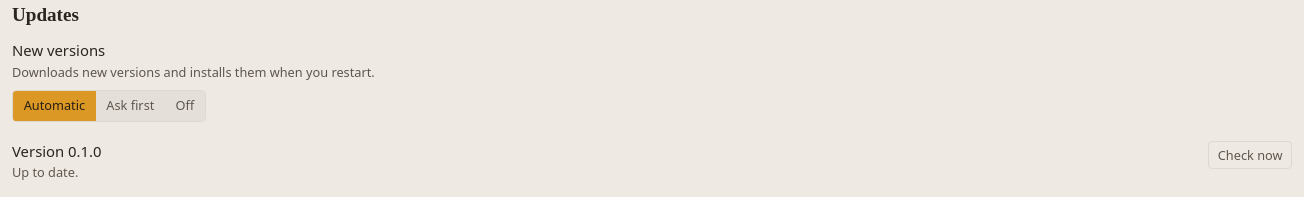
UpdatesSection › sets how the app updates
Expected: the radio button labelled "Automatic" is checked, x1=13 y1=91 x2=96 y2=121
Expected: the text "Downloads new versions and installs them when you restart." is shown, x1=12 y1=63 x2=375 y2=81
Click the radio button labelled "Off".
click(185, 106)  # box x1=165 y1=91 x2=205 y2=121
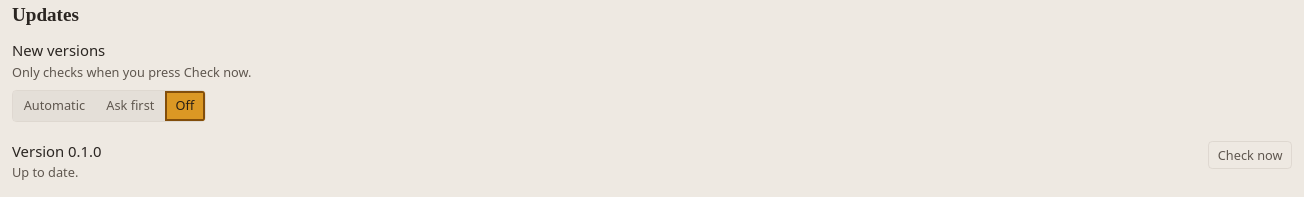
Expected: the text "Only checks when you press Check now." is shown, x1=12 y1=63 x2=251 y2=81
